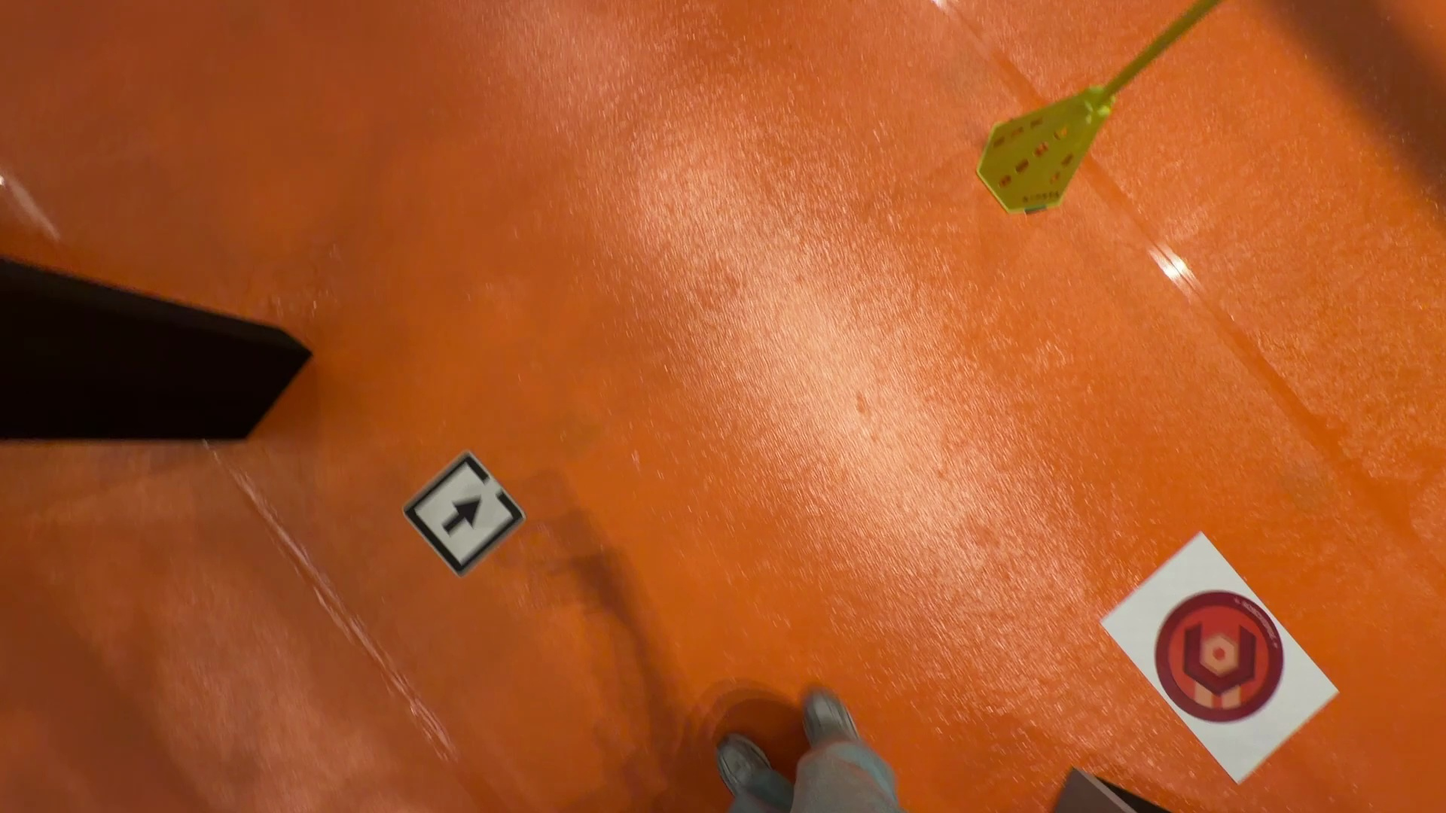landing_pad: (1149, 593, 1289, 723)
